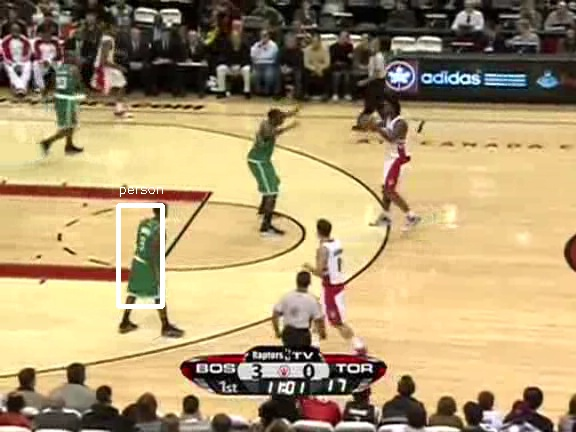person: (130, 219, 164, 300), (129, 219, 163, 300), (131, 219, 165, 300), (130, 218, 164, 299), (130, 220, 164, 301)
target_negative: (5, 125, 474, 269), (238, 193, 456, 341), (344, 312, 492, 402), (101, 400, 516, 425), (248, 252, 415, 290)
